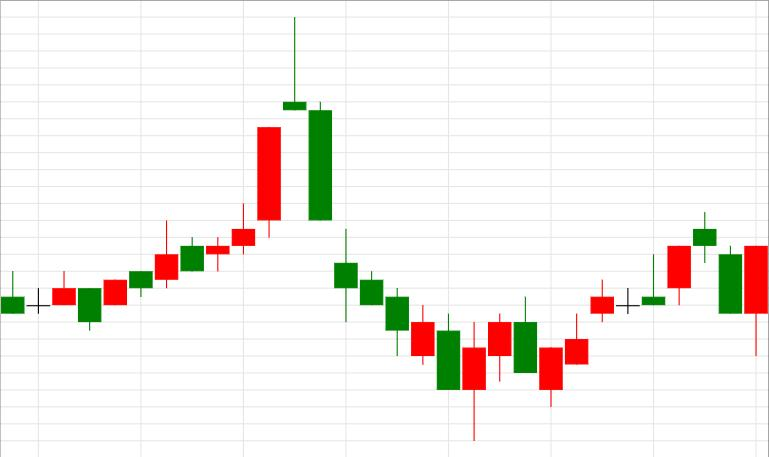evening_star_fall: (104, 17, 332, 305), (539, 211, 741, 406)
